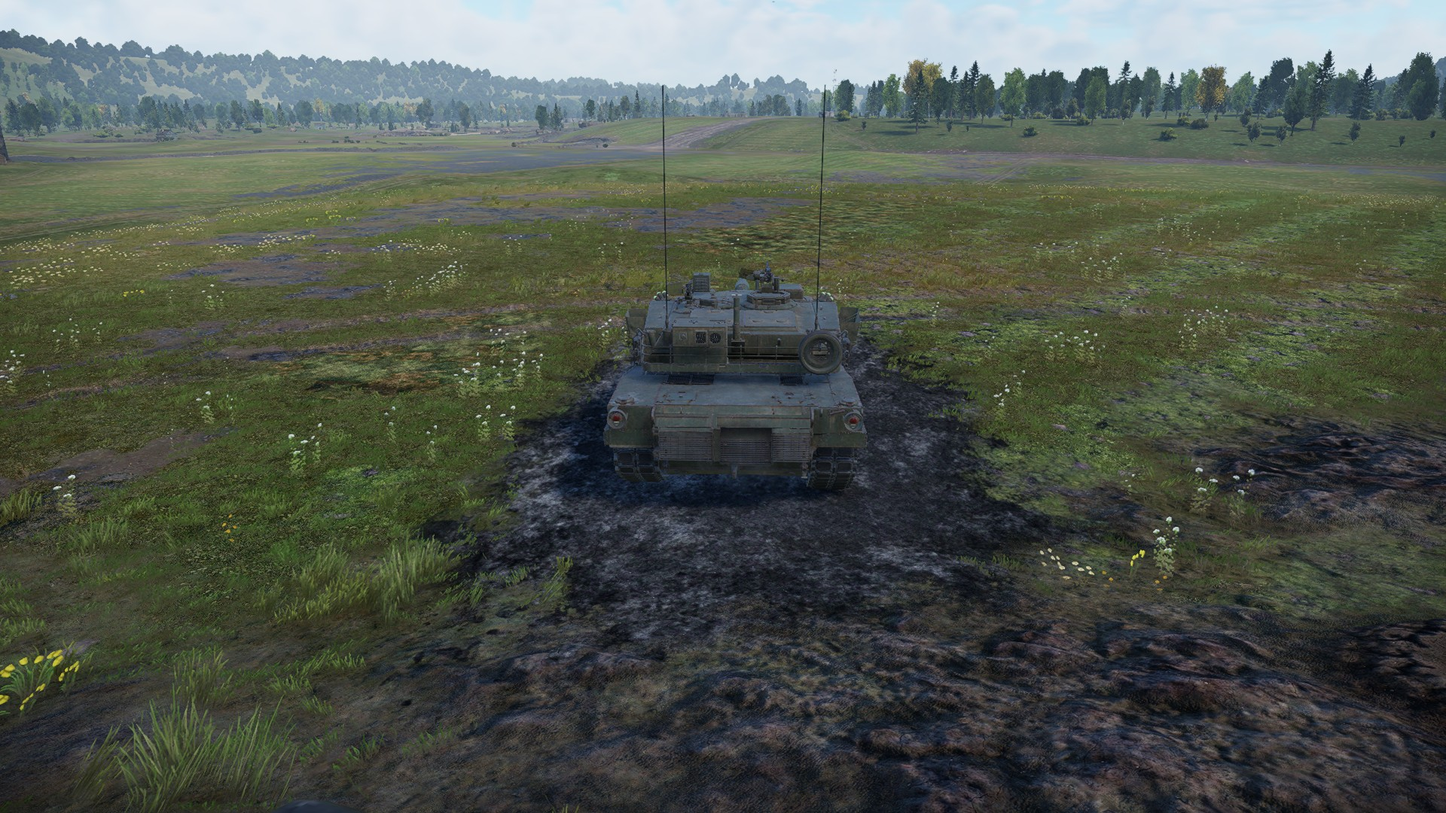abrams: (603, 265, 867, 492)
